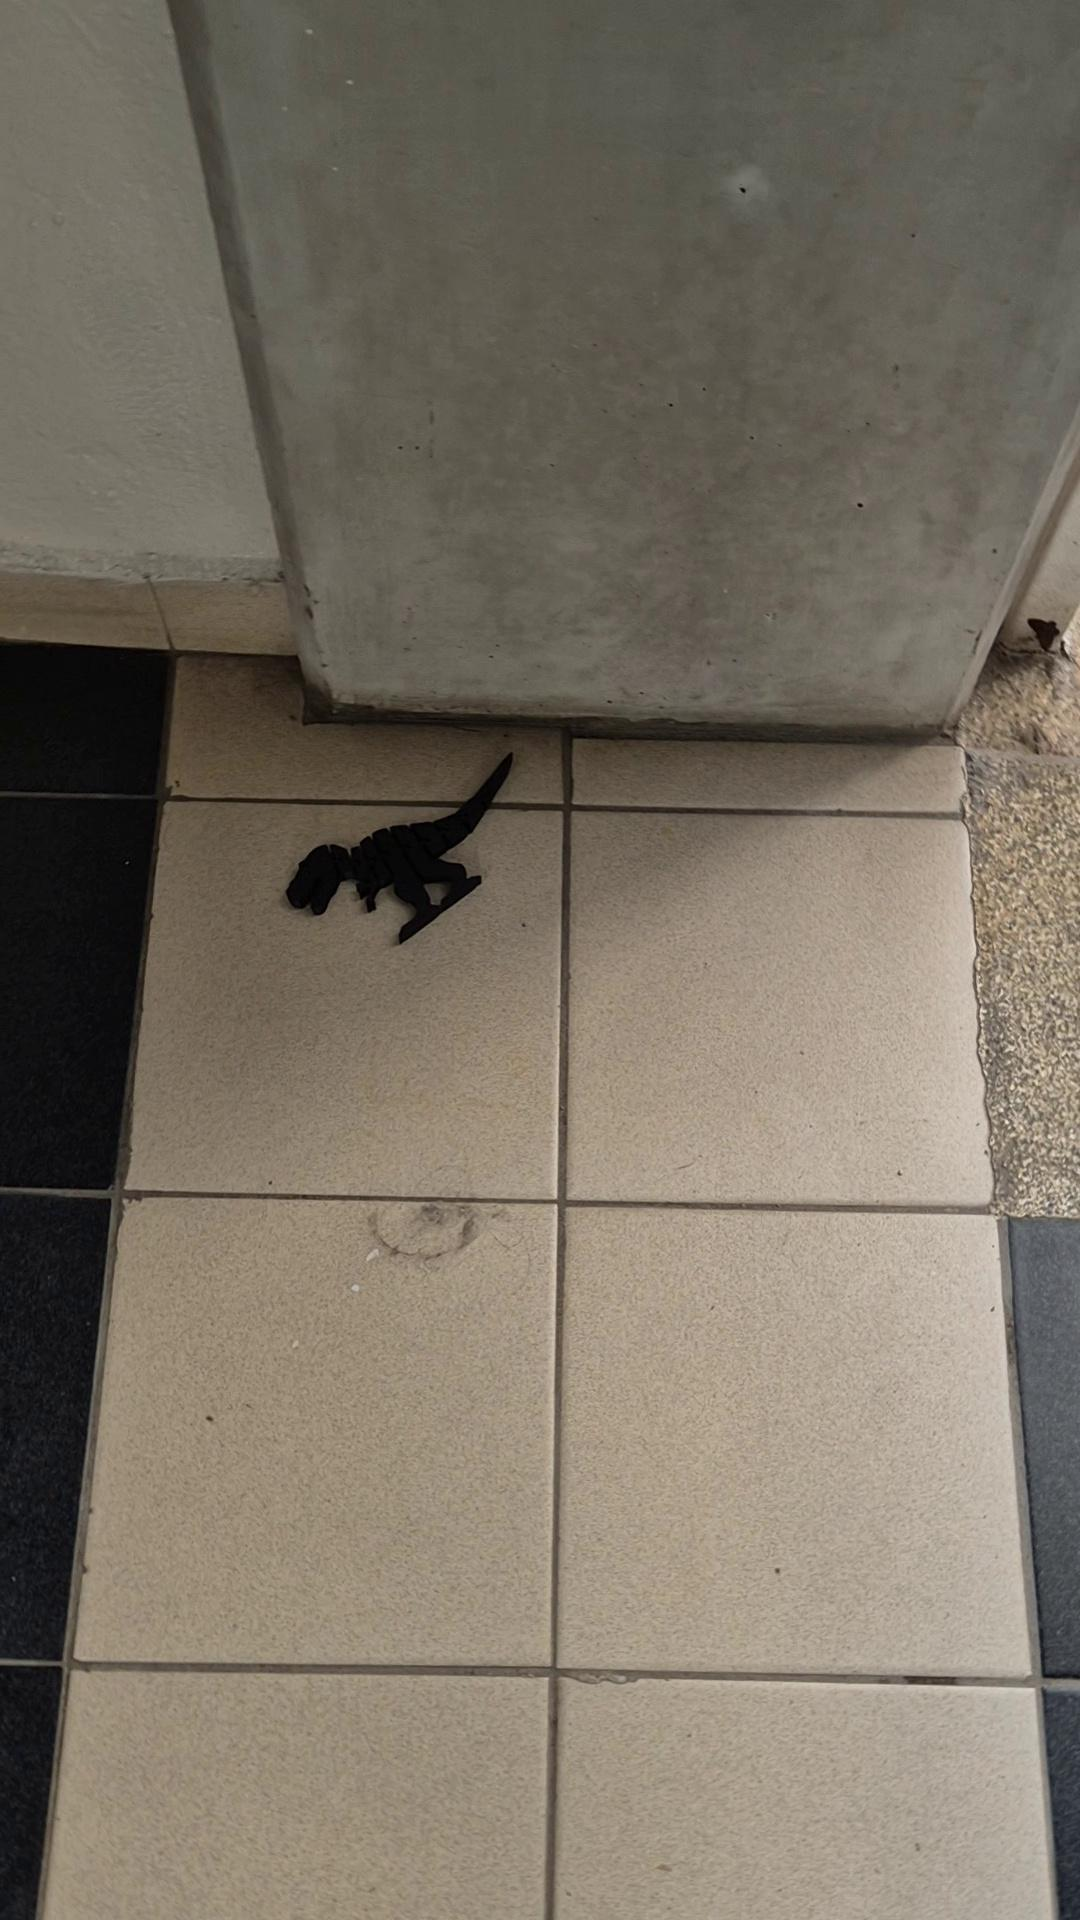dinosaur: (285, 750, 516, 947)
